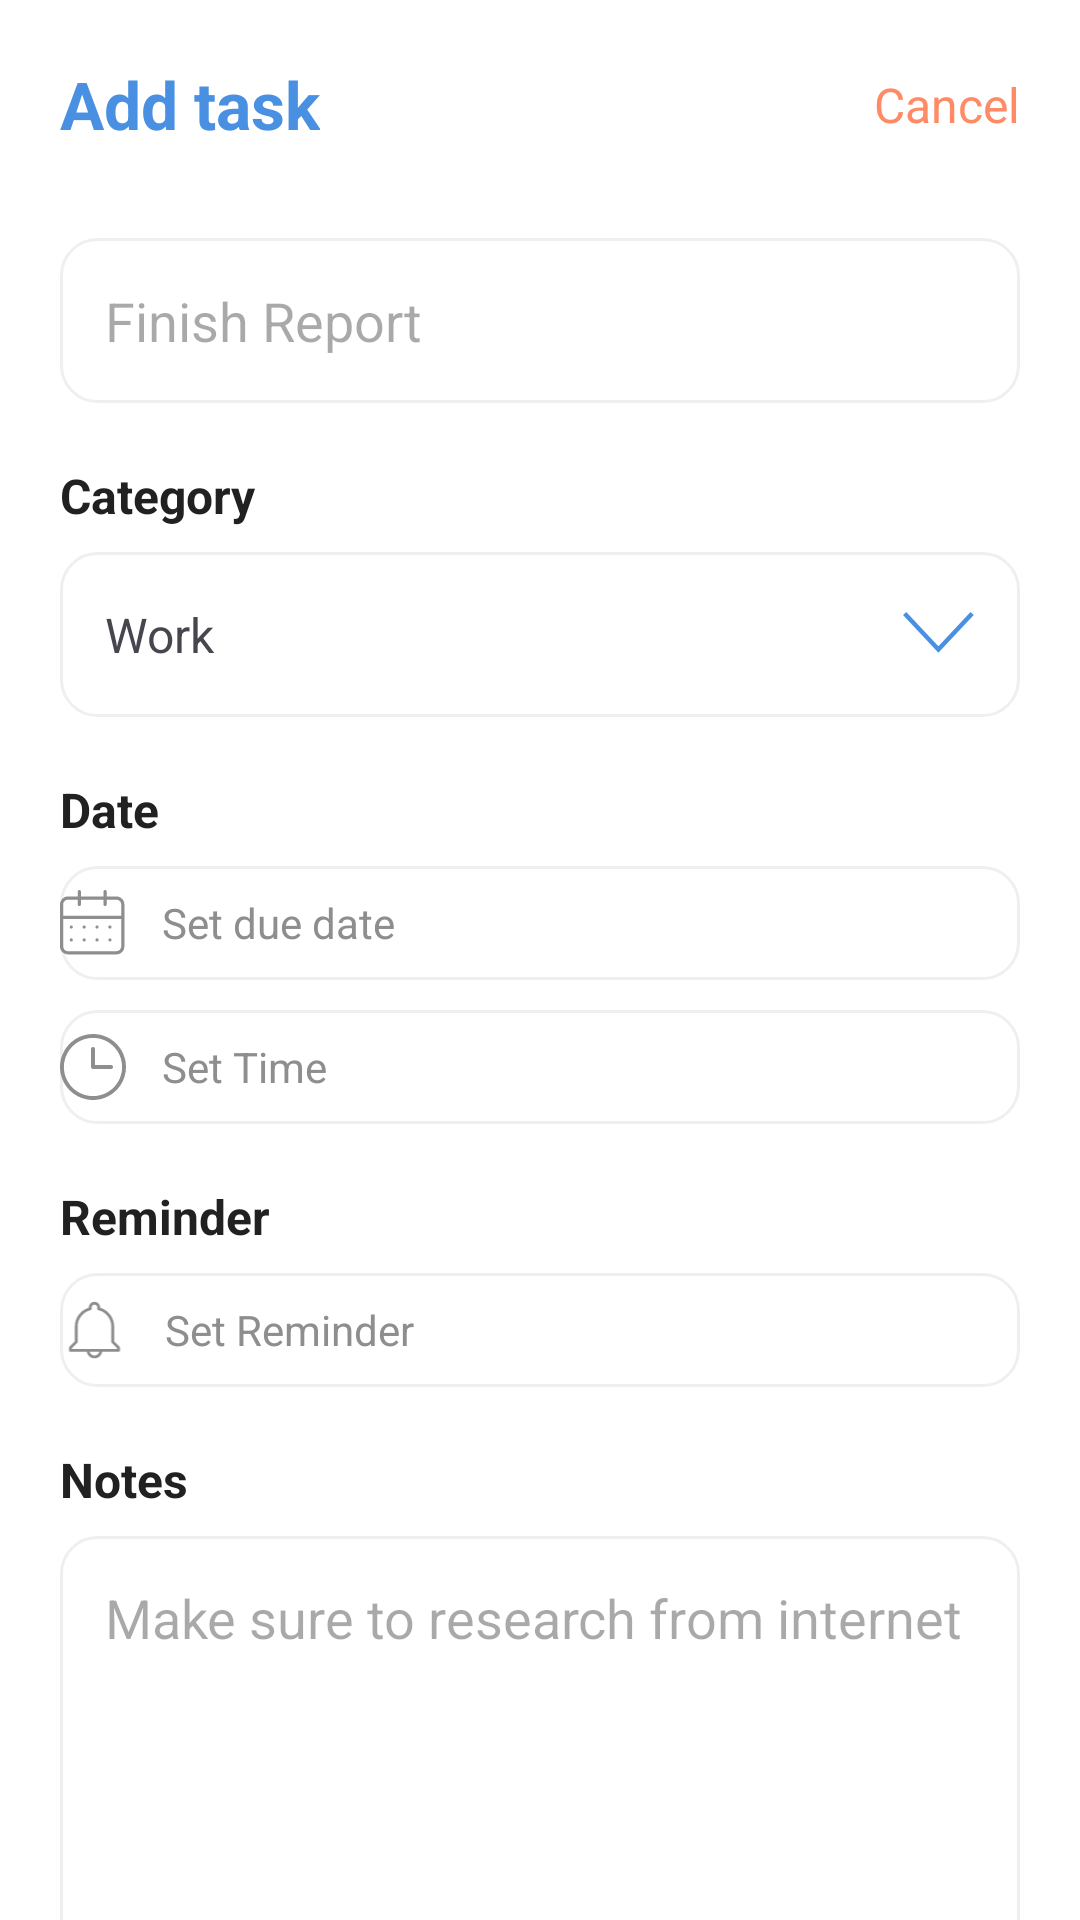

Icons on this 1080w x 1920h Android screen, each with its box as (x1, y1, x2, y2):
arrow bottom: (903, 612, 974, 653)
calendar: (60, 890, 125, 955)
